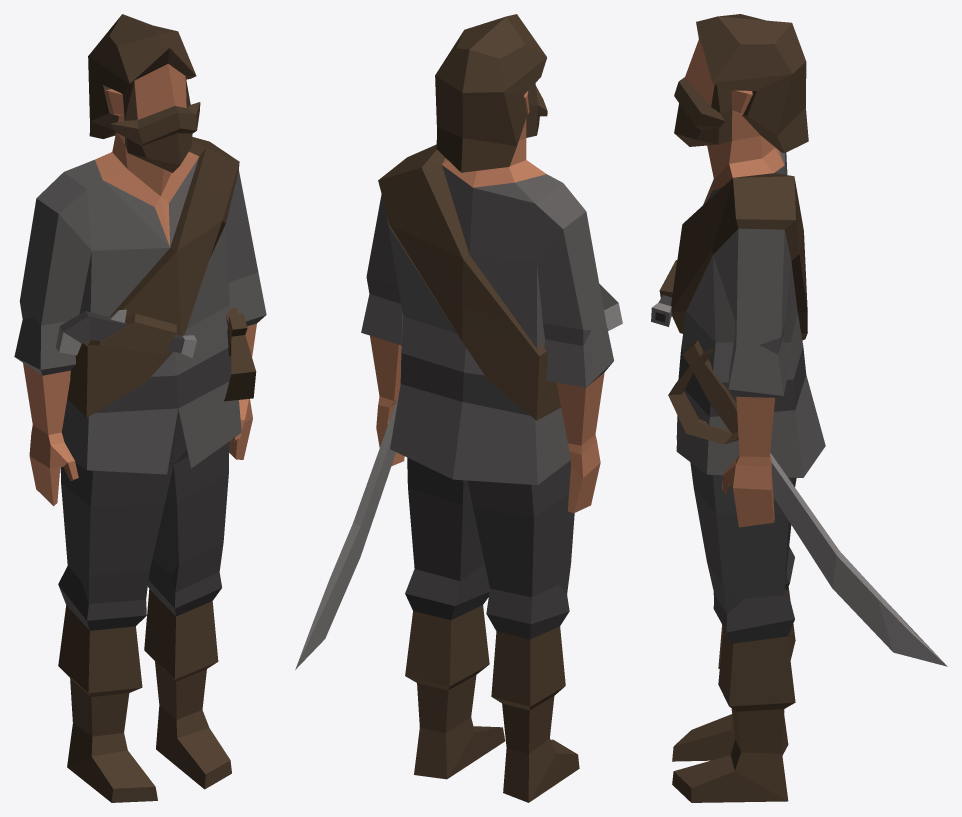
File: people_man-pirate.fbx
3 views of the same model, side by side, from view 1: azimuth 30°, elevation 25°; view 2: azimuth 150°, elevation 25°; view 3: azimuth 270°, elevation 25° (orthographic).
Visible parts, largest first — view 1: people_man_pirate; view 2: people_man_pirate; view 3: people_man_pirate.
Part boxes in pixels (x1,y1,x2,y2): people_man_pirate: (14, 14, 266, 802); people_man_pirate: (295, 14, 622, 802); people_man_pirate: (651, 14, 947, 802).
Bounding box in the file's own units: 63.53 × 200 × 71.11.
